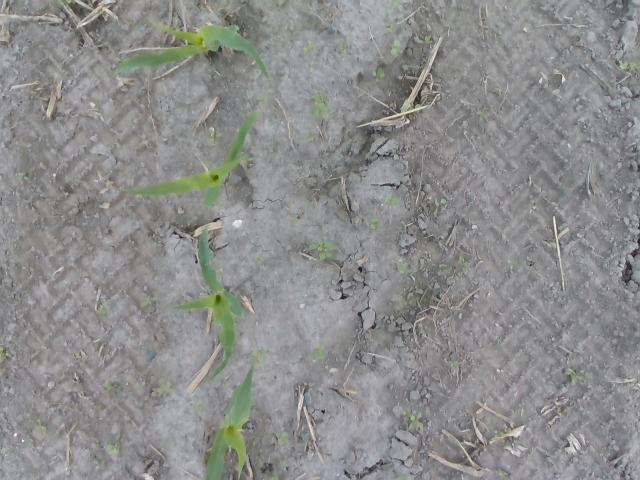Maize: (117, 112, 259, 207), (168, 227, 244, 384), (114, 18, 272, 84), (206, 365, 261, 479)
Weeds: (438, 258, 471, 276), (308, 240, 336, 260), (312, 94, 332, 118), (402, 412, 422, 433), (563, 368, 584, 388), (203, 128, 222, 144), (248, 348, 268, 362), (620, 60, 636, 76), (278, 430, 292, 448), (106, 382, 125, 395), (95, 302, 108, 320), (434, 200, 446, 218), (159, 380, 175, 393), (313, 344, 324, 362), (14, 169, 28, 182), (386, 196, 401, 208), (142, 296, 159, 306), (390, 40, 402, 54), (418, 37, 434, 47), (110, 445, 122, 456), (396, 264, 410, 273), (340, 44, 350, 56), (386, 20, 396, 32), (374, 70, 384, 82), (0, 349, 7, 363), (478, 109, 486, 121), (259, 95, 268, 105), (395, 0, 404, 10), (369, 220, 378, 230), (60, 0, 74, 6), (304, 42, 312, 52), (255, 257, 263, 266), (306, 60, 314, 69), (308, 133, 316, 142)
